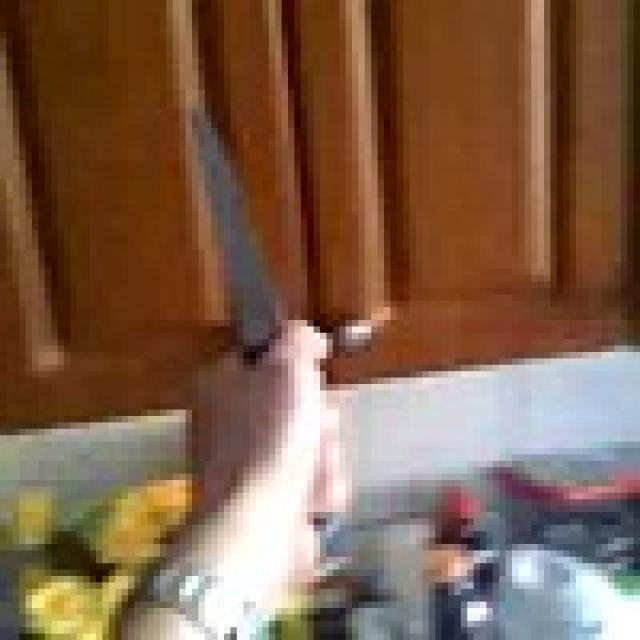knife: (185, 90, 288, 358)
